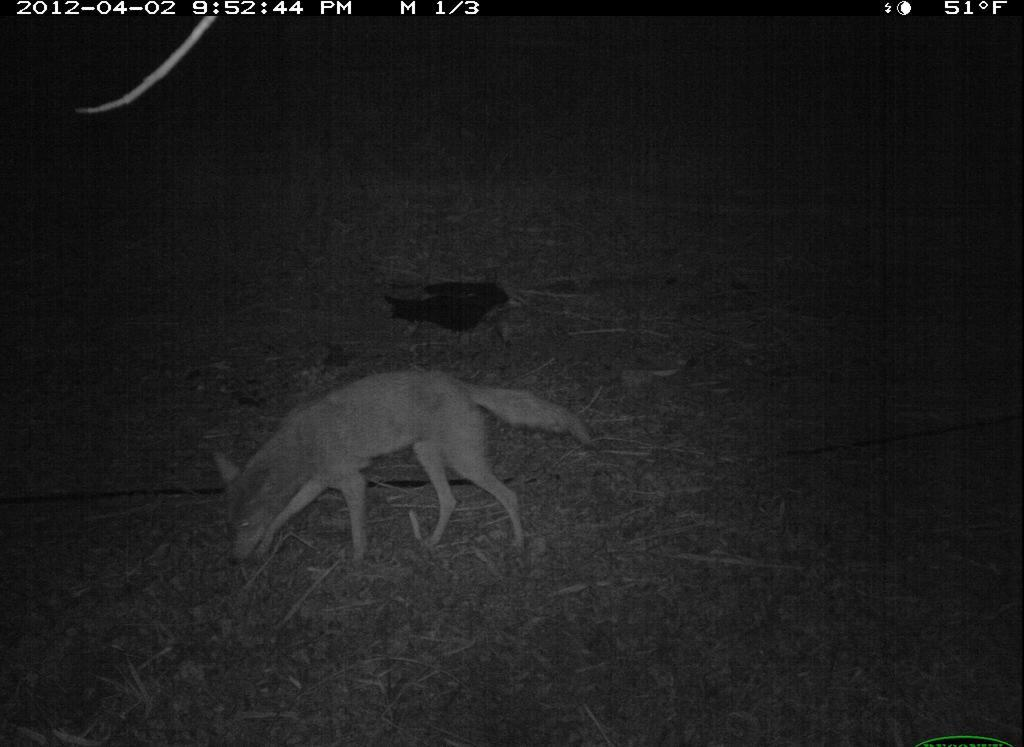coyote: (210, 359, 597, 575)
